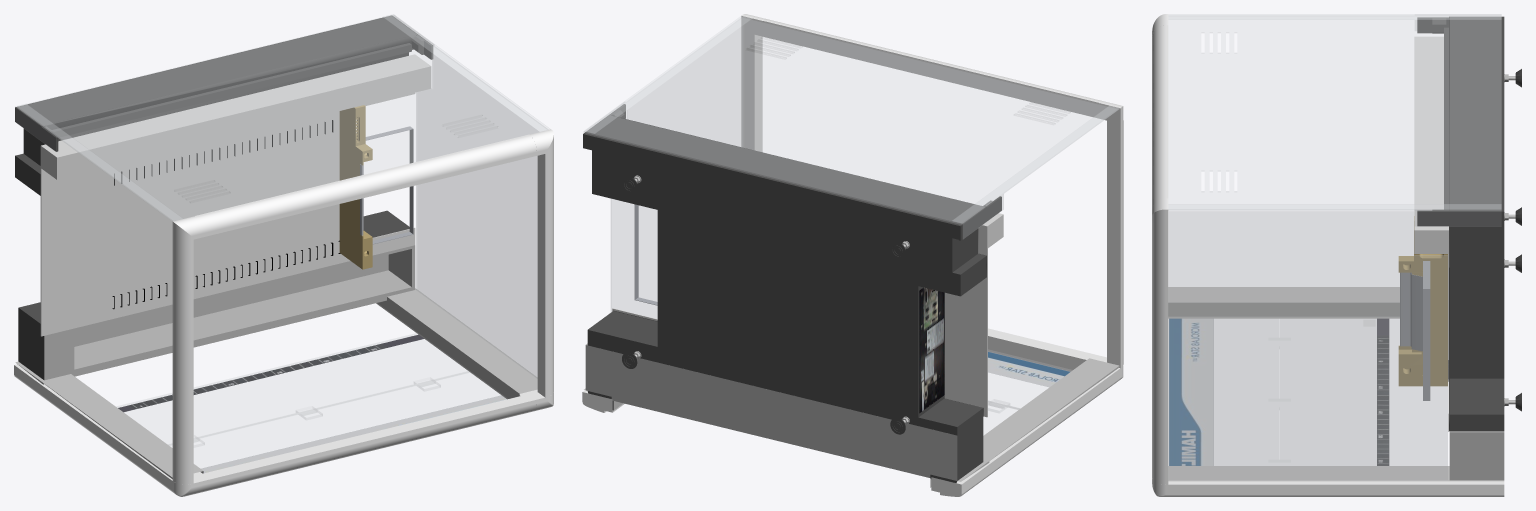
Rendered from STARLet.glb.
3 renders of one model, left to right at view 1: azimuth 30°, elevation 25°; view 2: azimuth 150°, elevation 25°; view 3: azimuth 270°, elevation 25°, orthographic. The views are drawn at different scales.
Visible parts, largest first — view 1: starlet_base; view 2: starlet_base; view 3: starlet_base.
Part boxes in pixels (x1,y1,x2,y2): starlet_base: (14,14,553,496); starlet_base: (582,14,1123,496); starlet_base: (1152,14,1521,496).
Bounding box in the file's own units: 1.13 × 0.7926 × 0.903.
14 materials, 4 textured.
